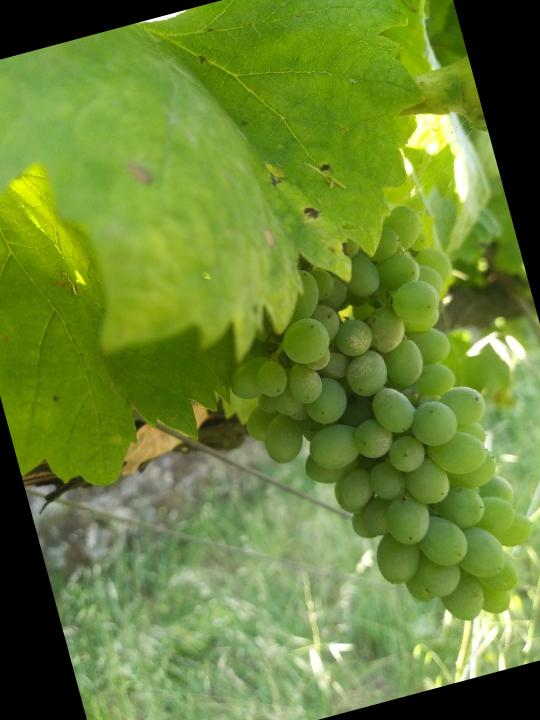grape: (189, 189, 540, 675)
